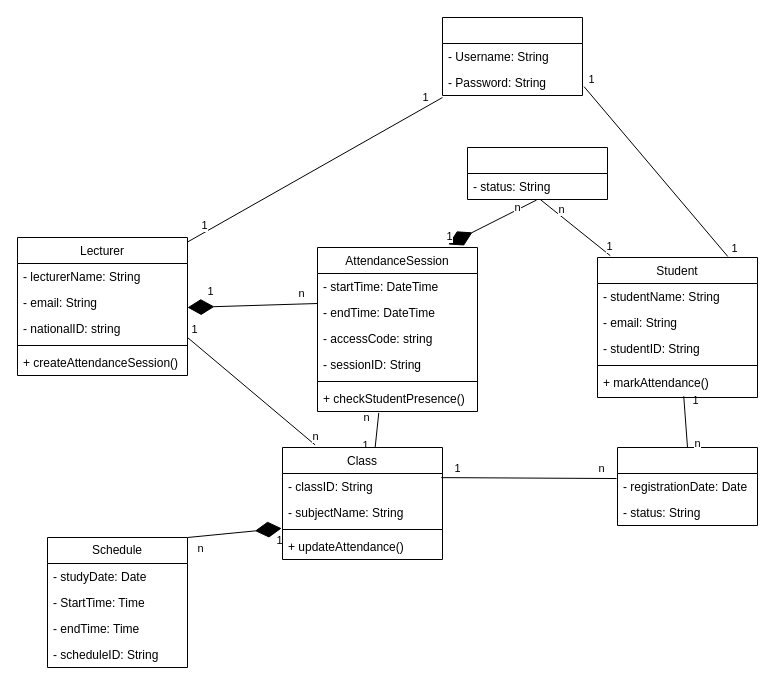
The diagram is 775 pixels wide and 688 high, and some of its shapes have lost their labels. The box of each missing label's shape, as (x1, y1, x2, y2) in pixels:
Account: (442, 16, 582, 96)
AttendanceDetail: (466, 146, 608, 200)
CourseRegistration: (616, 446, 758, 526)
